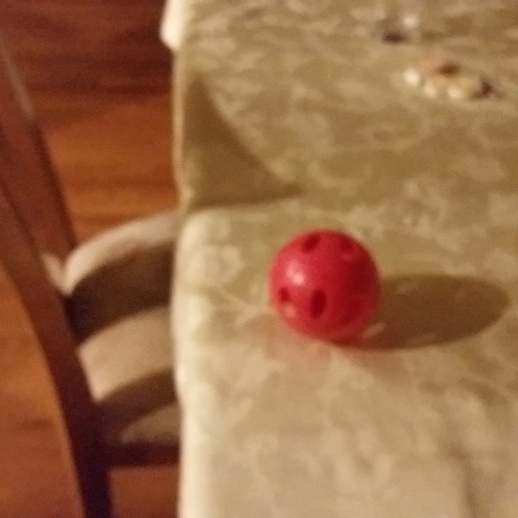redball: (264, 226, 385, 346)
